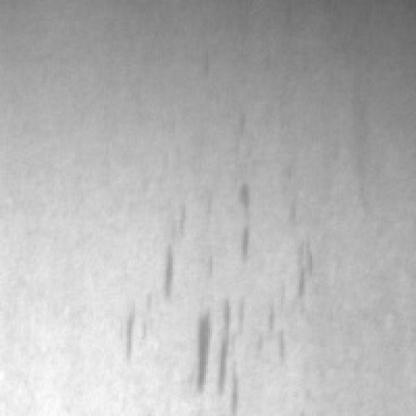inclusion: (189, 283, 254, 410), (116, 231, 179, 358), (228, 177, 264, 266)
